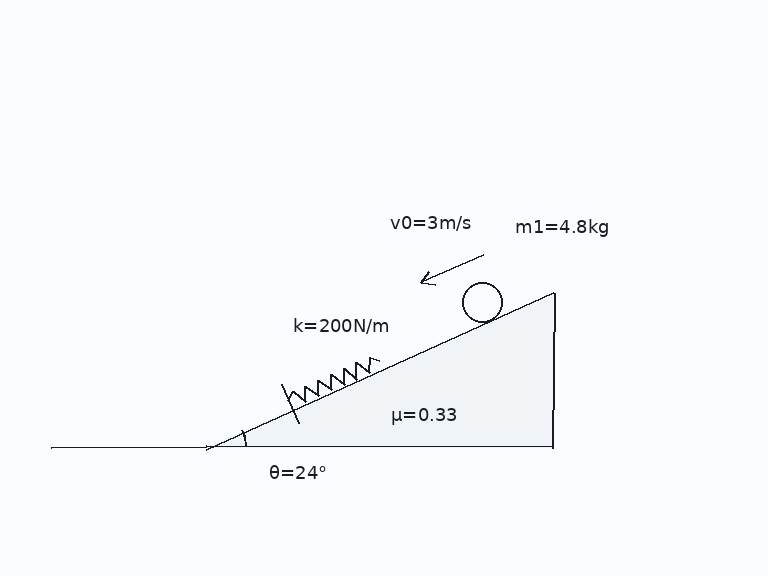ball: (460, 280, 504, 324)
ramp: (204, 291, 554, 449)
spring: (287, 355, 381, 403)
